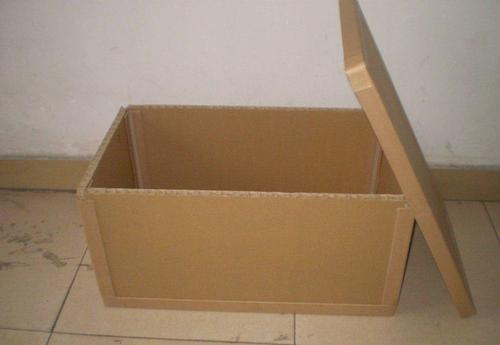cardboard: (78, 105, 413, 313), (340, 0, 499, 315)
